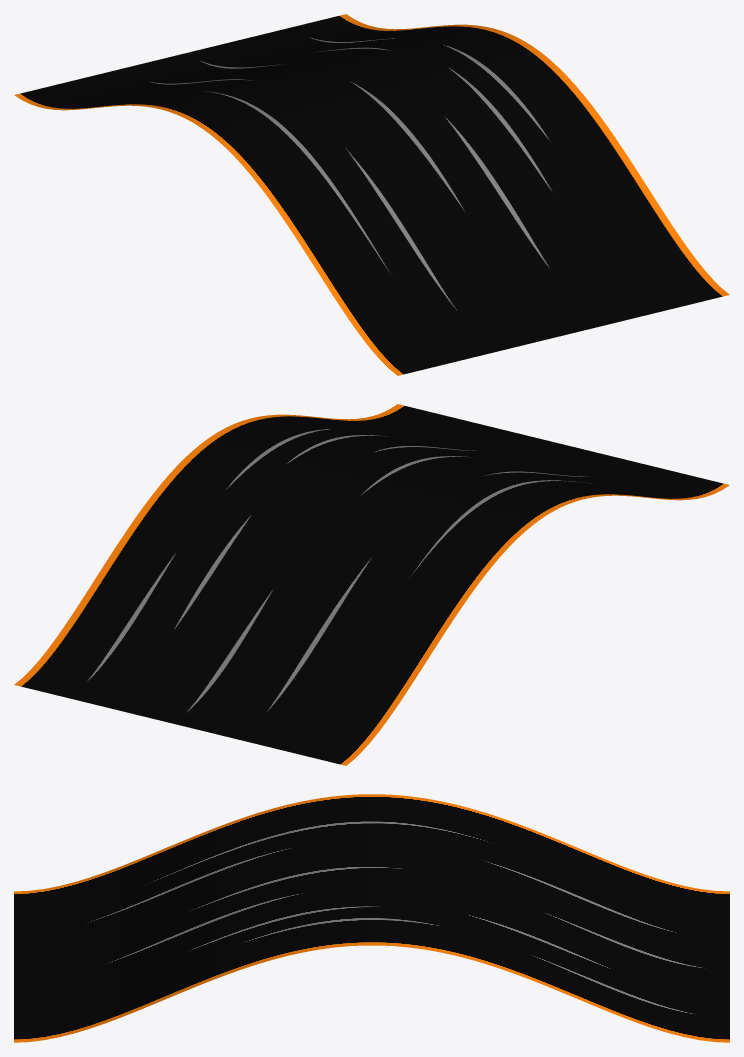
File: TrackHill.fbx
The picture shows the model from 3 angles, top to bottom: view 1: azimuth 30°, elevation 25°; view 2: azimuth 150°, elevation 25°; view 3: azimuth 270°, elevation 25°; orthographic projection. The views are drawn at different scales.
Visible parts, largest first — view 1: TrackHill; view 2: TrackHill; view 3: TrackHill.
Boxes of the visible parts, bbox=[...] form: TrackHill: bbox=[14, 14, 729, 375]; TrackHill: bbox=[14, 404, 729, 765]; TrackHill: bbox=[14, 794, 729, 1042].
Bounding box in the file's own units: 100 × 29.97 × 200.
